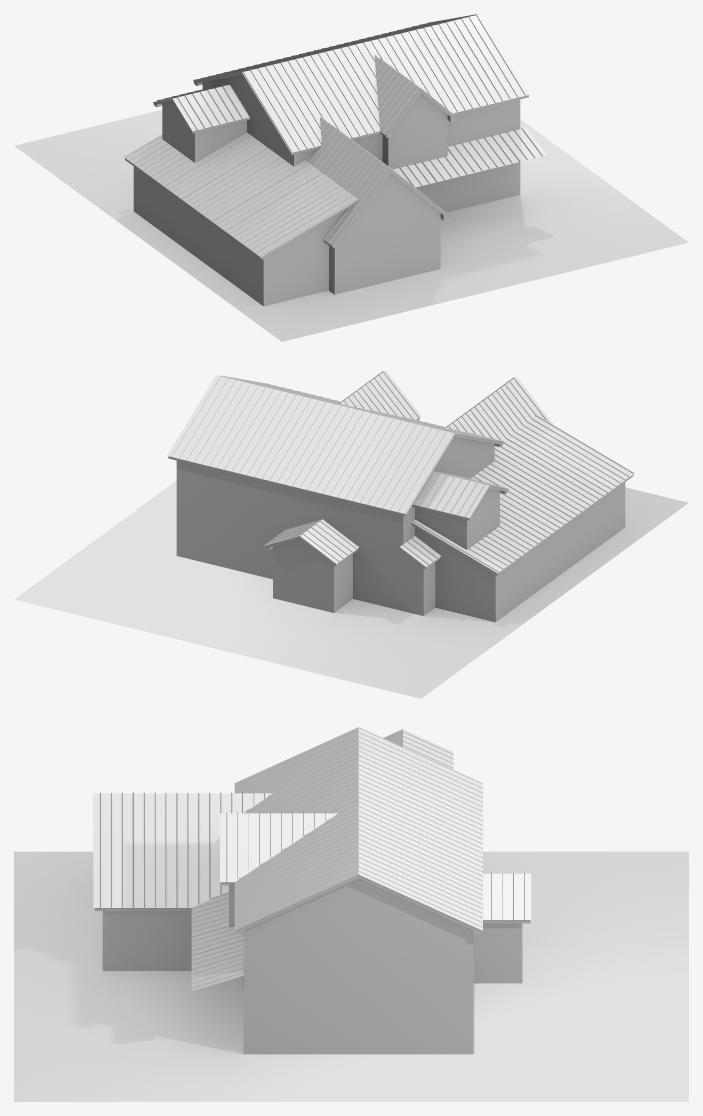
3 views of the same model, one above another, from view 1: azimuth 30°, elevation 25°; view 2: azimuth 150°, elevation 25°; view 3: azimuth 270°, elevation 25° (orthographic). The views are drawn at different scales.
Parts seen in each view (by area): view 1: base, object_2, roof_1, roof_2; view 2: base, object_2, roof_1, roof_2; view 3: object_2, base, roof_1, roof_2.
Part boxes in pixels (x1,y1,x2,y2): base: (124, 72, 546, 306); object_2: (14, 110, 688, 341); roof_1: (242, 14, 529, 152); roof_2: (193, 14, 529, 152); base: (168, 376, 634, 622); object_2: (14, 481, 688, 698); roof_1: (167, 370, 454, 513); roof_2: (171, 371, 503, 513); object_2: (14, 851, 688, 1101); base: (93, 729, 531, 1054); roof_1: (220, 728, 482, 930); roof_2: (226, 727, 483, 929).
Size of the model in its own units: 81.06 by 27.9 by 92.4.
4 materials, 4 textured.
